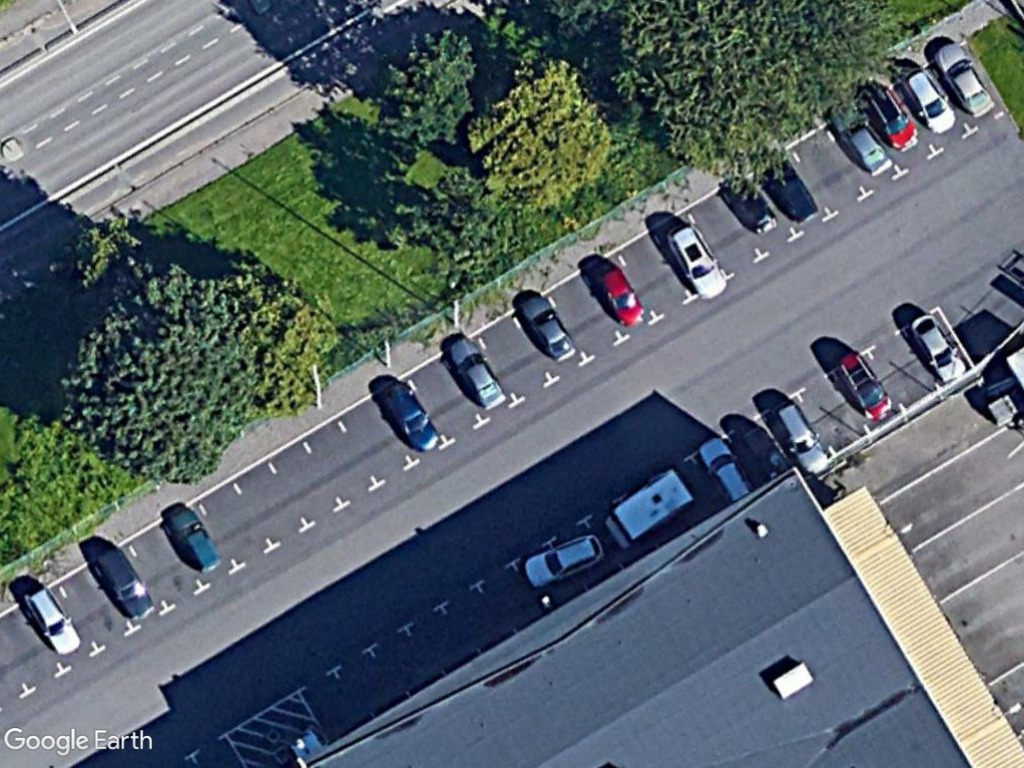car: (931, 40, 1003, 125), (520, 527, 606, 595), (663, 217, 730, 302), (445, 328, 511, 412), (770, 395, 834, 481), (94, 544, 158, 624), (835, 348, 900, 425), (382, 376, 443, 457), (22, 580, 86, 657), (905, 306, 968, 384), (516, 289, 579, 364), (899, 60, 959, 138), (166, 504, 226, 577), (696, 430, 754, 504), (592, 253, 647, 330)
